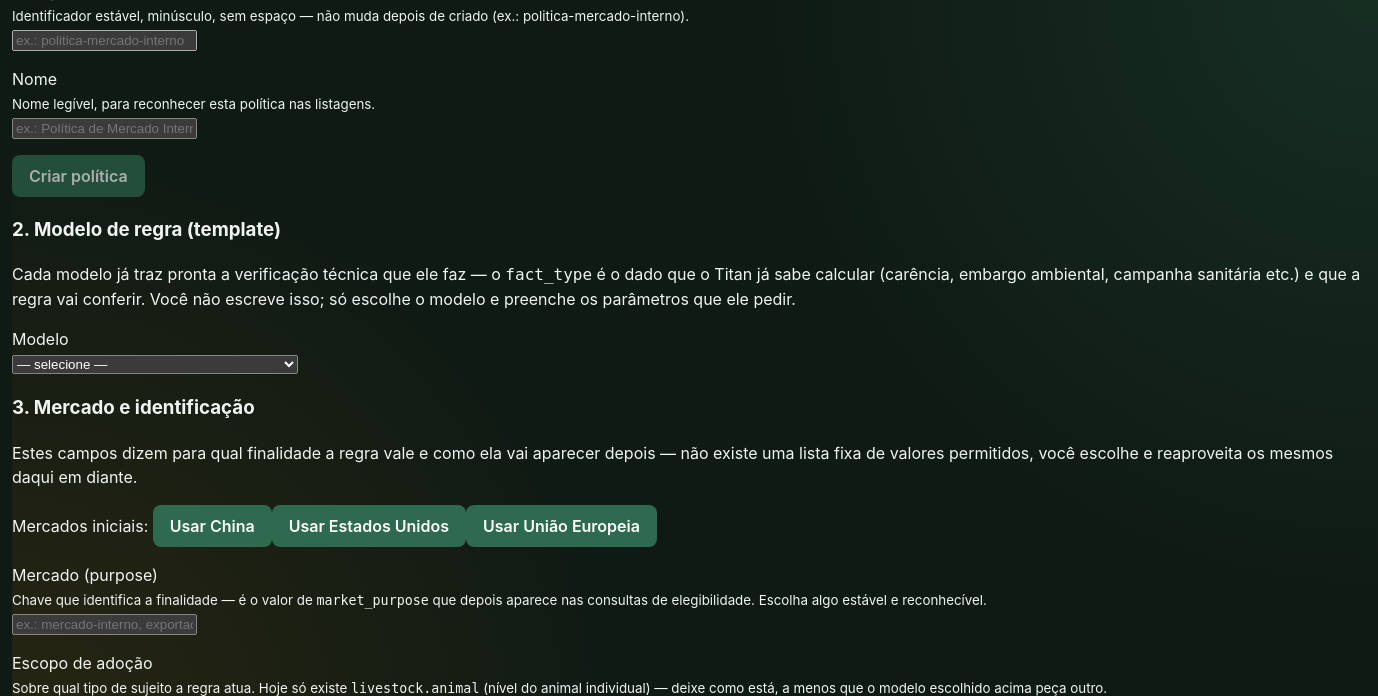
Scenario: MarketRuleGovernance › preenche o mercado inicial e sincroniza escopo e parametro do template
(page scrolled)
Select "Habilitacao do estabelecimento por mercado" in the dropdown labelled "Modelo" at (155, 365), box [12,355,298,374]
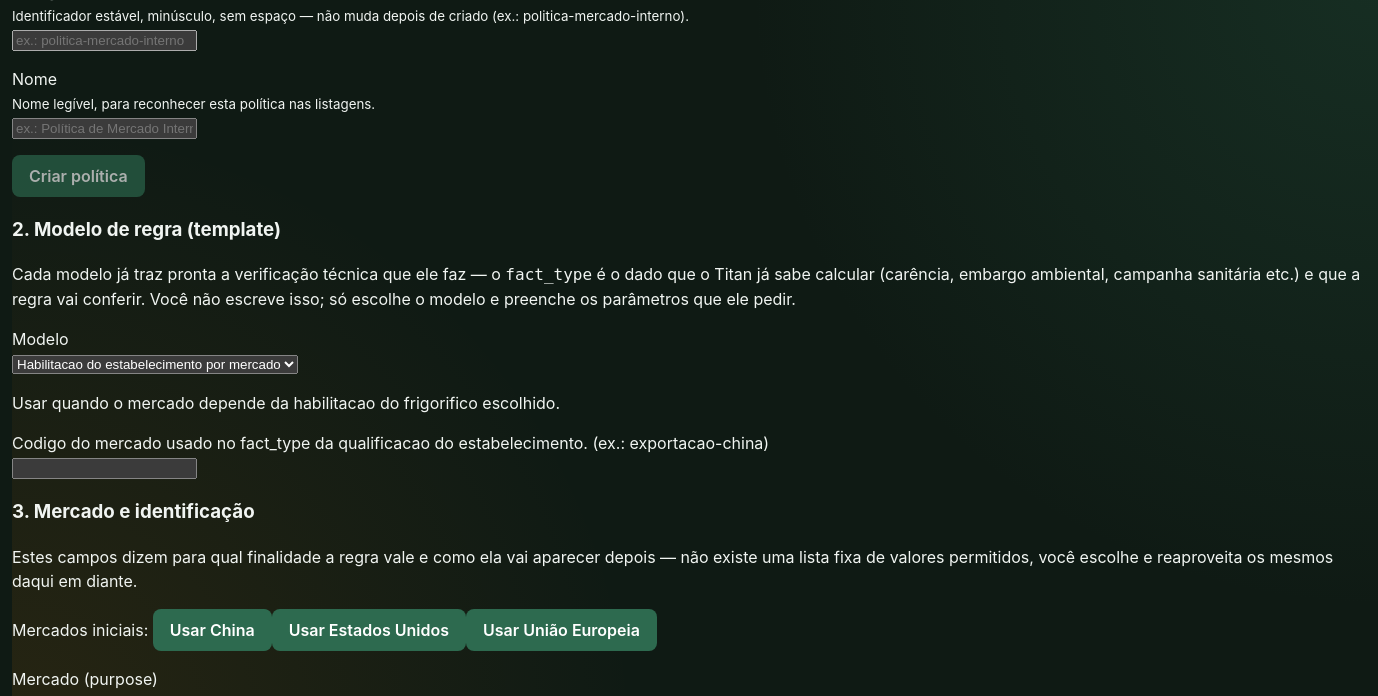
Click the button "Usar China" at (212, 630), box [153,609,272,651]
(page scrolled)
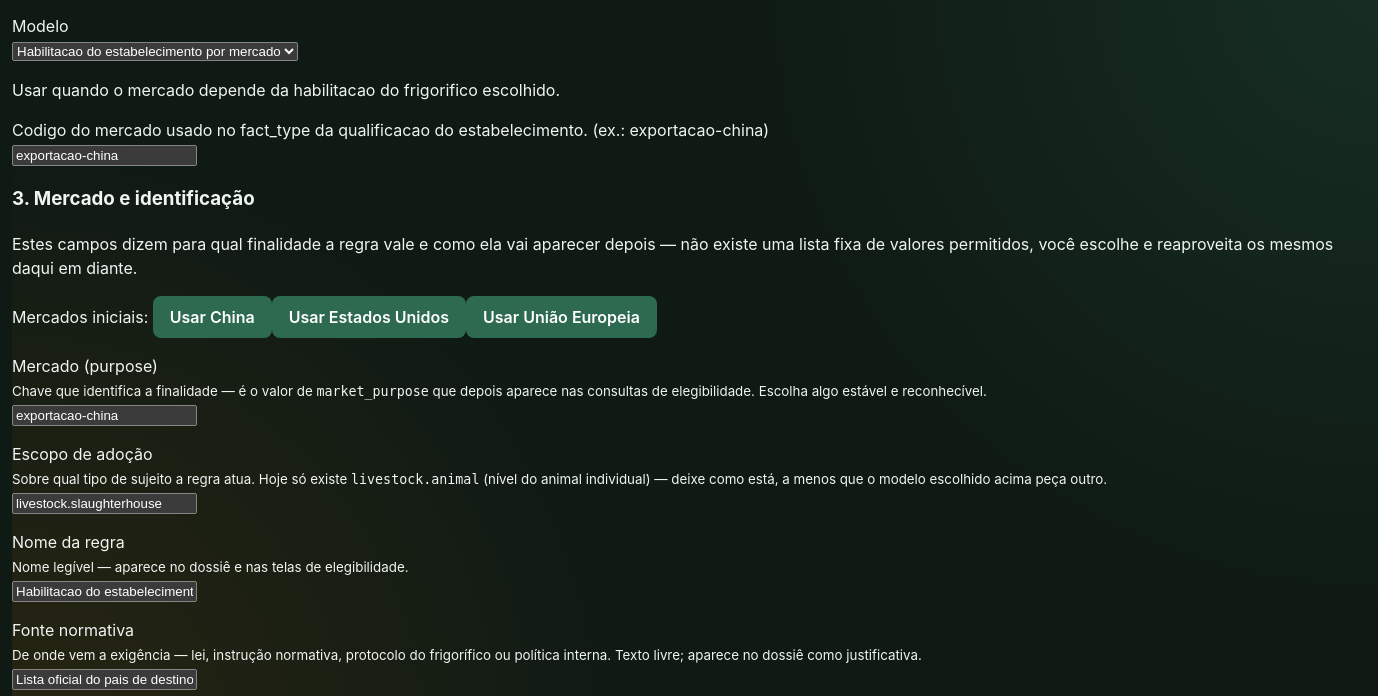
Check: the field labelled "Mercado (purpose)" holds "exportacao-china", box [12,405,197,426]
Check: the field labelled "Escopo de adoção" holds "livestock.slaughterhouse", box [12,493,197,514]
Check: the field labelled "Codigo do mercado usado" holds "exportacao-china", box [12,145,197,166]
